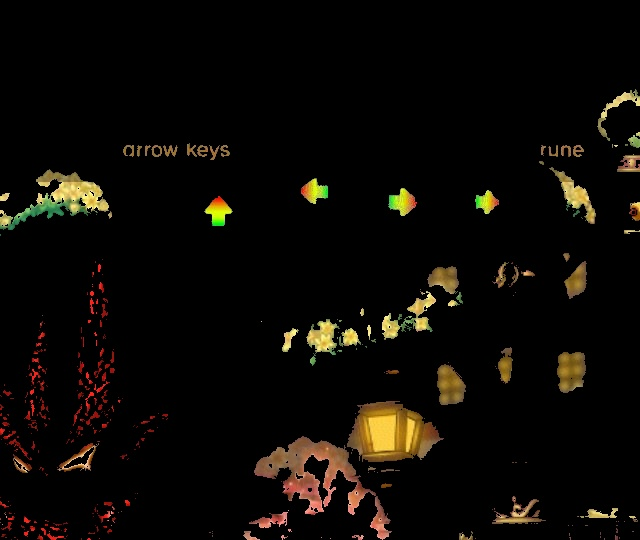left: (294, 171, 339, 216)
right: (383, 181, 421, 223), (466, 185, 505, 222)
up: (198, 190, 239, 234)
